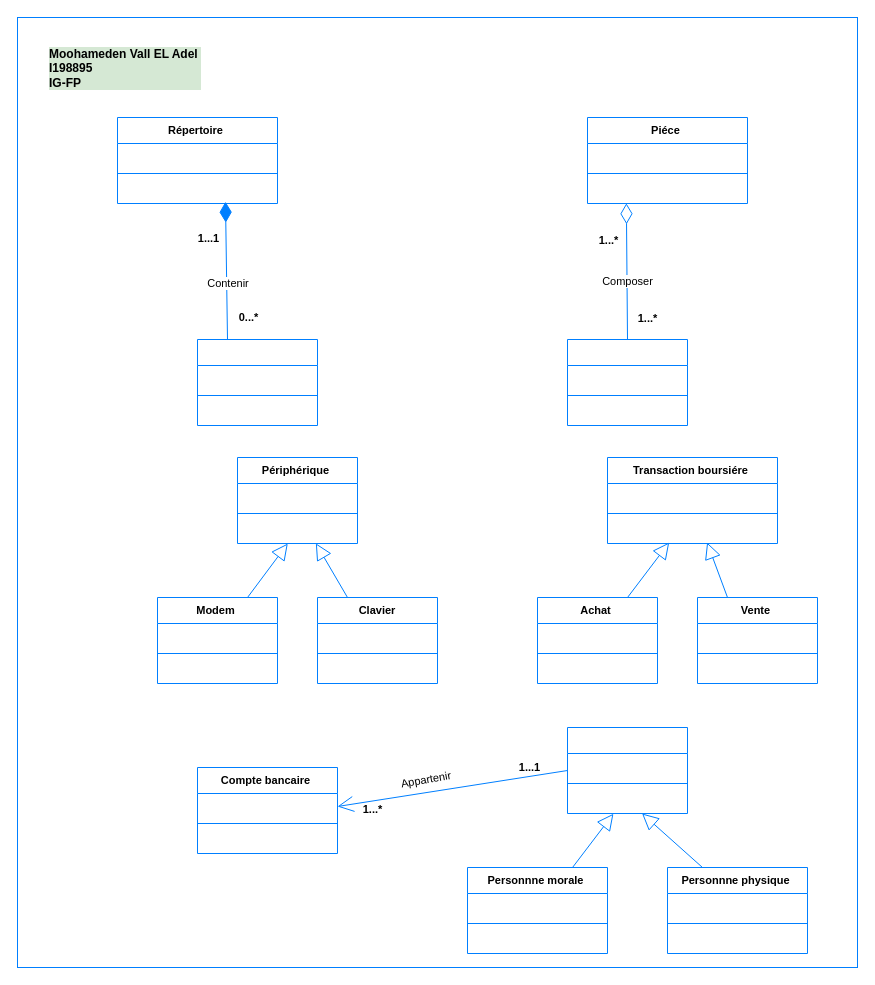
Some shapes in this 875 by 985 pixel diagram are drawn without their labels. The box of each missing label's shape, as (x1, y1, x2, y2) in pixels:
Client: (566, 726, 688, 814)
Fichier: (196, 338, 318, 426)
Mur: (566, 338, 688, 426)
